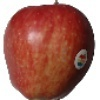apple: (4, 3, 94, 100)
